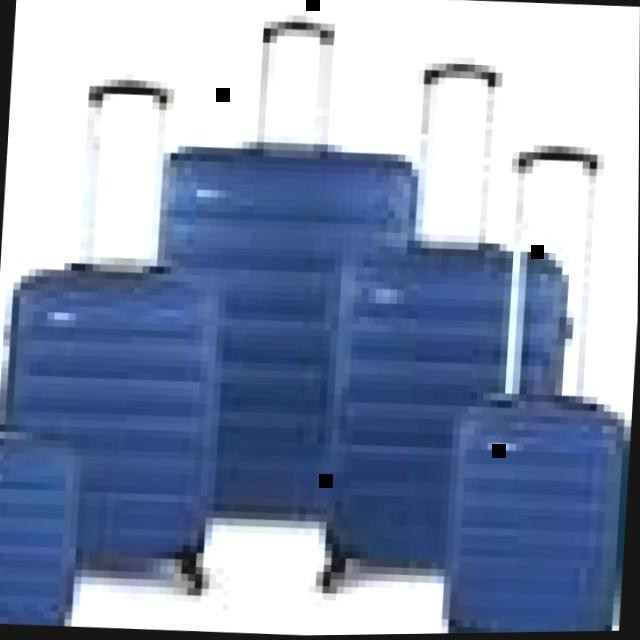luggage: (127, 128, 435, 540), (306, 228, 586, 581), (0, 244, 237, 582), (441, 377, 635, 635), (0, 423, 92, 628)
